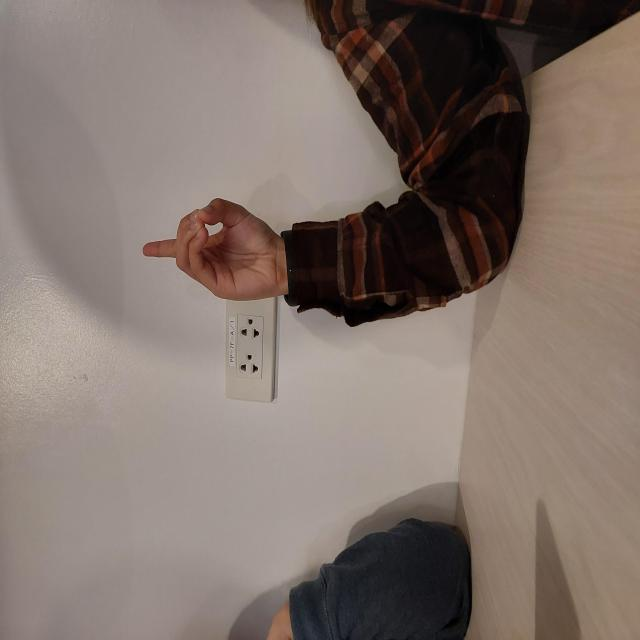D: (334, 135, 449, 290)
